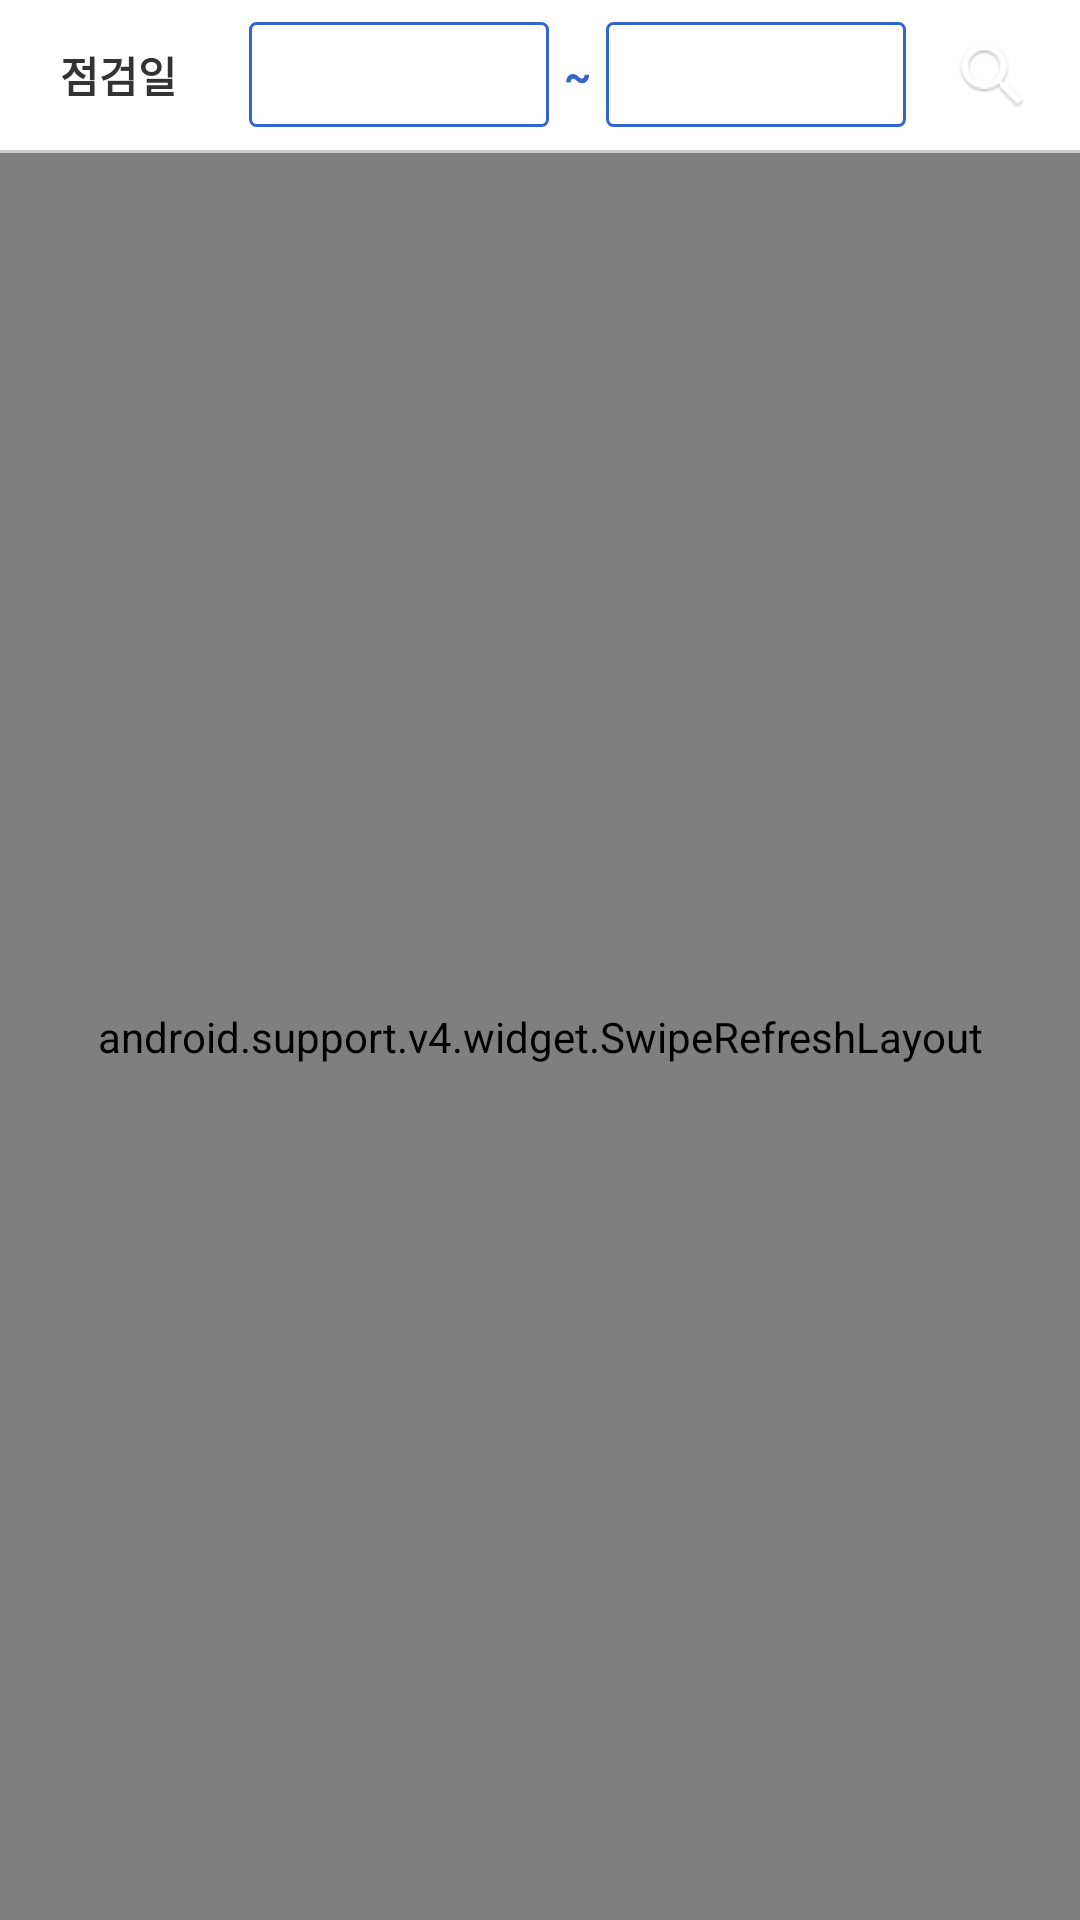

Where icons sit on this 1080px×1920px app screen, as (x1, y1, x2, y2):
top search: (962, 50, 1022, 106)
